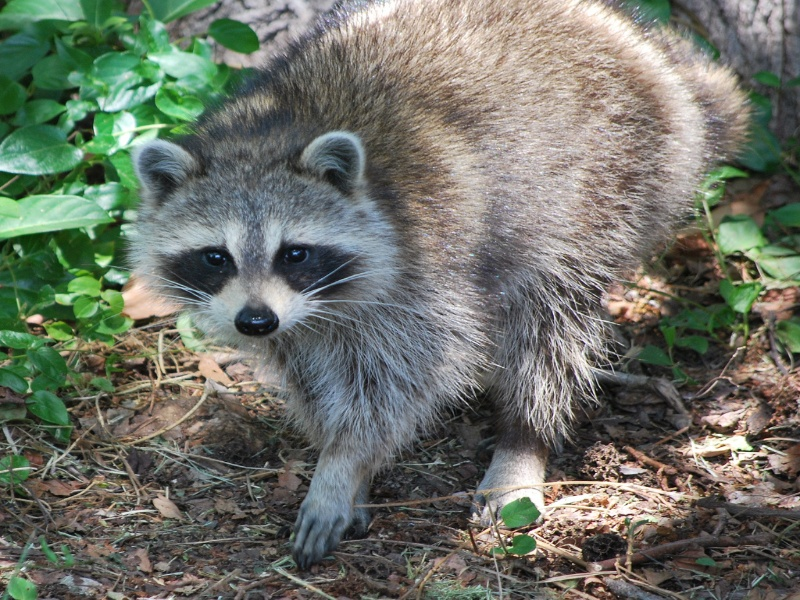raccoon: (138, 1, 751, 567)
